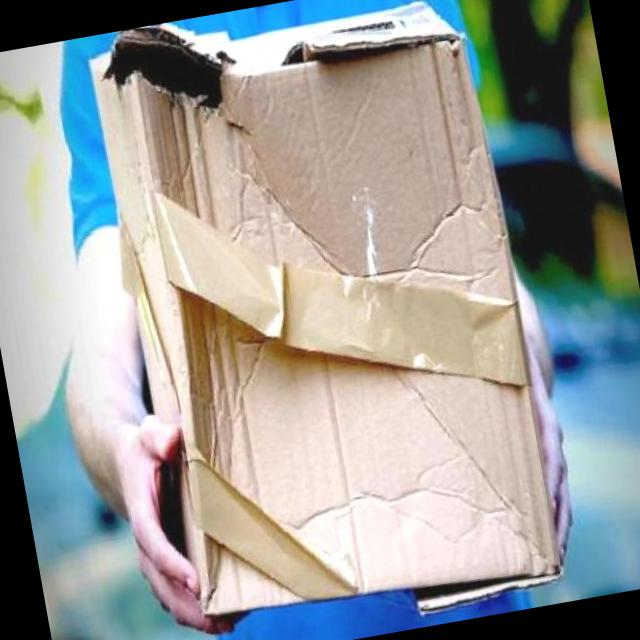box: (91, 1, 563, 640)
crushed: (262, 194, 494, 389), (270, 435, 540, 574), (164, 132, 250, 465)
tear: (92, 20, 427, 128)
